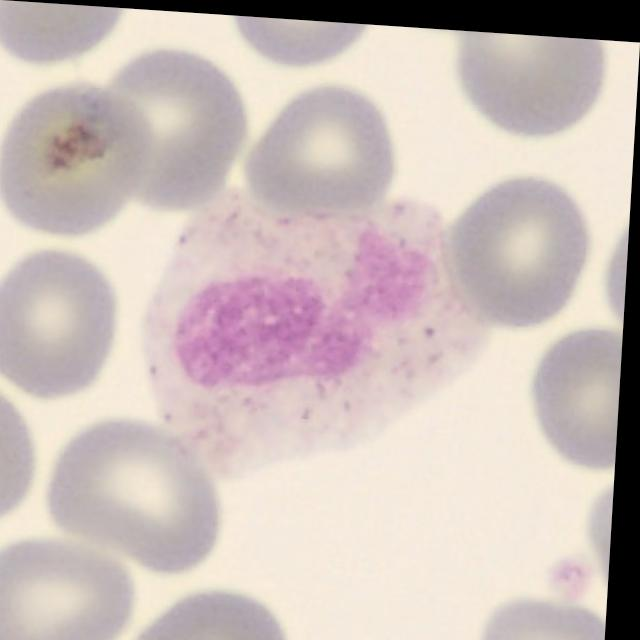Neutrofilo segmentado: (144, 182, 496, 476)
